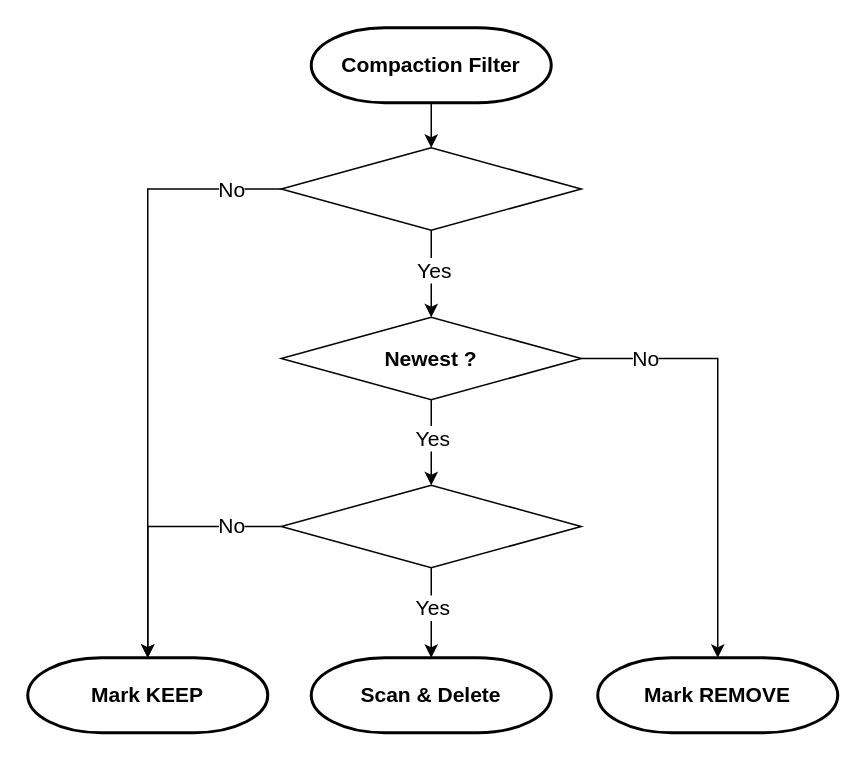
Some shapes in this 864 by 759 pixel diagram are drawn without their labels. The centre of each missing label's shape, as x and y in pixels:
"Deleted or Expired" belongs at pixel 430 526.
"Ts < Safe Point" belongs at pixel 430 188.
